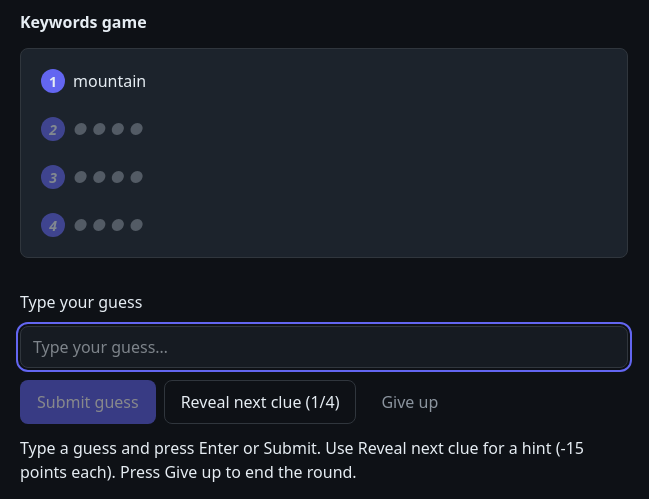
KeywordsGame — reveal next clue › disables the reveal button after the last clue is shown
This screenshot has width=649, height=499.
Note: Reveal clues 2, 3, 4 (clue 1 already shown on mount).
Click the button "Reveal next clue (1/4)" at coordinates (260, 402), box x1=164 y1=380 x2=356 y2=424
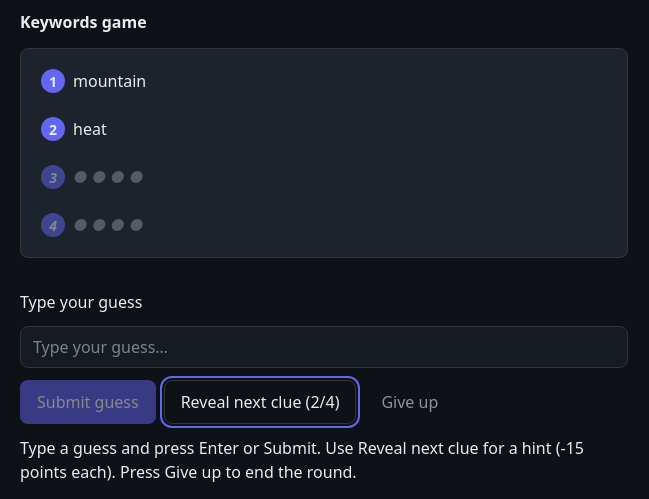
Click the button "Reveal next clue (2/4)" at coordinates (260, 402), box x1=164 y1=380 x2=356 y2=424
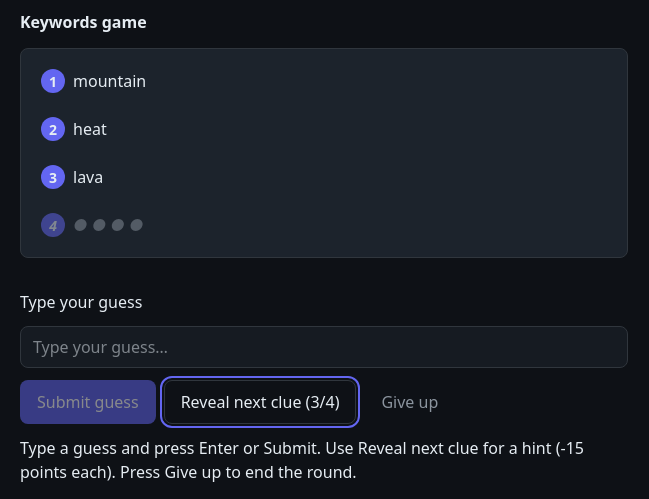
Click the button "Reveal next clue (3/4)" at coordinates (260, 402), box x1=164 y1=380 x2=356 y2=424
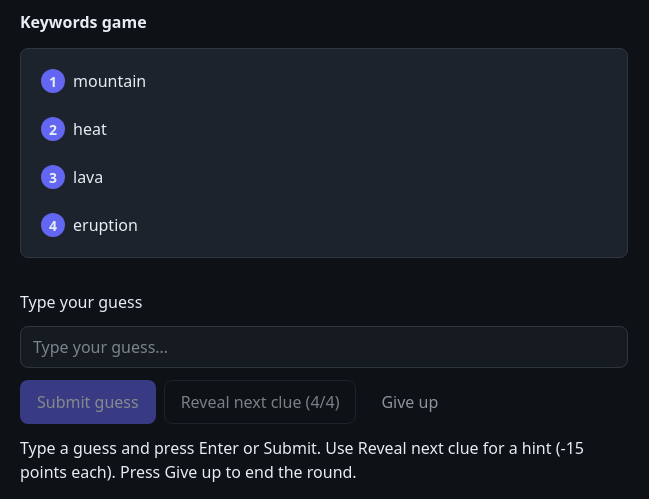
Result: the button "Reveal next clue (4/4)" is disabled at x1=164 y1=380 x2=356 y2=424
